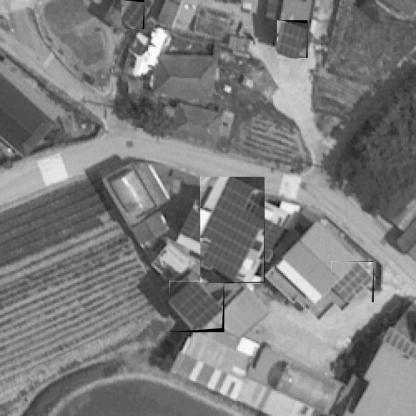solar-pv-panel: (200, 177, 264, 283), (169, 281, 223, 331), (332, 262, 373, 302), (277, 21, 307, 58), (122, 1, 144, 29)
